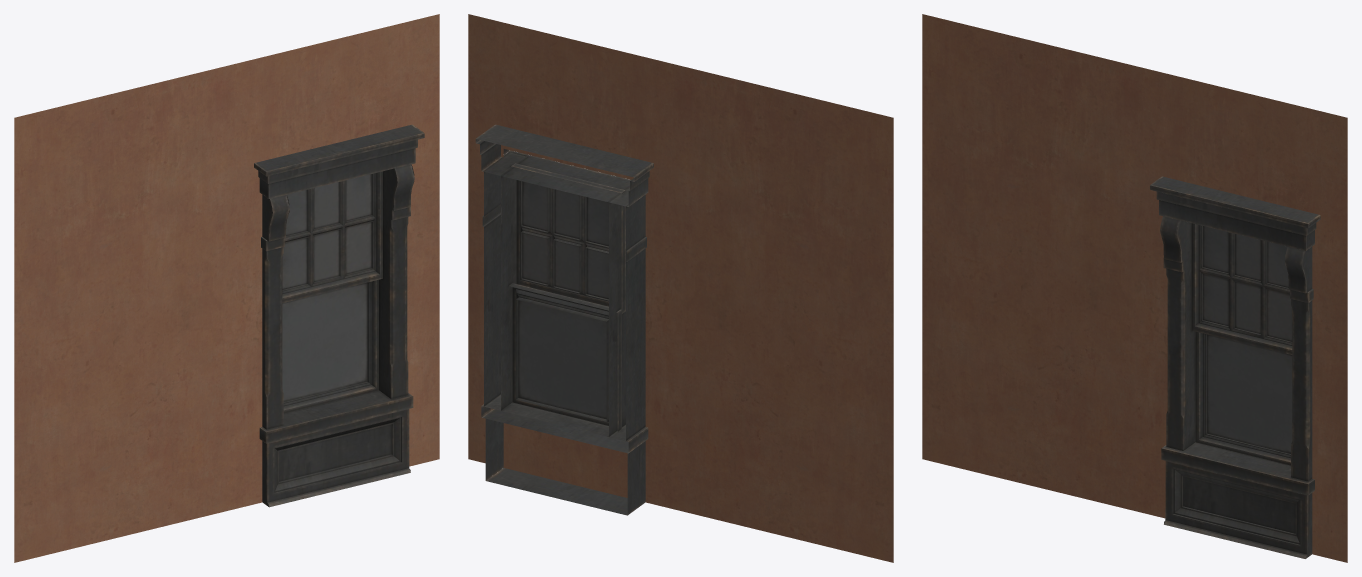
The model's file is bay_window_c.gltf.
The picture shows the model from 3 angles, left to right: view 1: azimuth 30°, elevation 25°; view 2: azimuth 150°, elevation 25°; view 3: azimuth 330°, elevation 25°; orthographic projection.
Visible parts, largest first — view 1: bay_window_c; view 2: bay_window_c; view 3: bay_window_c.
Boxes of the visible parts, bbox=[...] form: bay_window_c: bbox=[14, 14, 439, 562]; bay_window_c: bbox=[468, 14, 893, 562]; bay_window_c: bbox=[922, 14, 1347, 562].
Bounding box in the file's own units: 3 × 3 × 0.3893.
3 materials, 3 textured.
